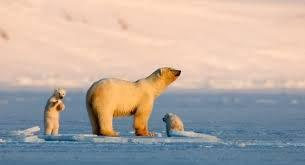bear: (86, 65, 181, 138), (43, 87, 65, 135), (162, 110, 184, 137)
